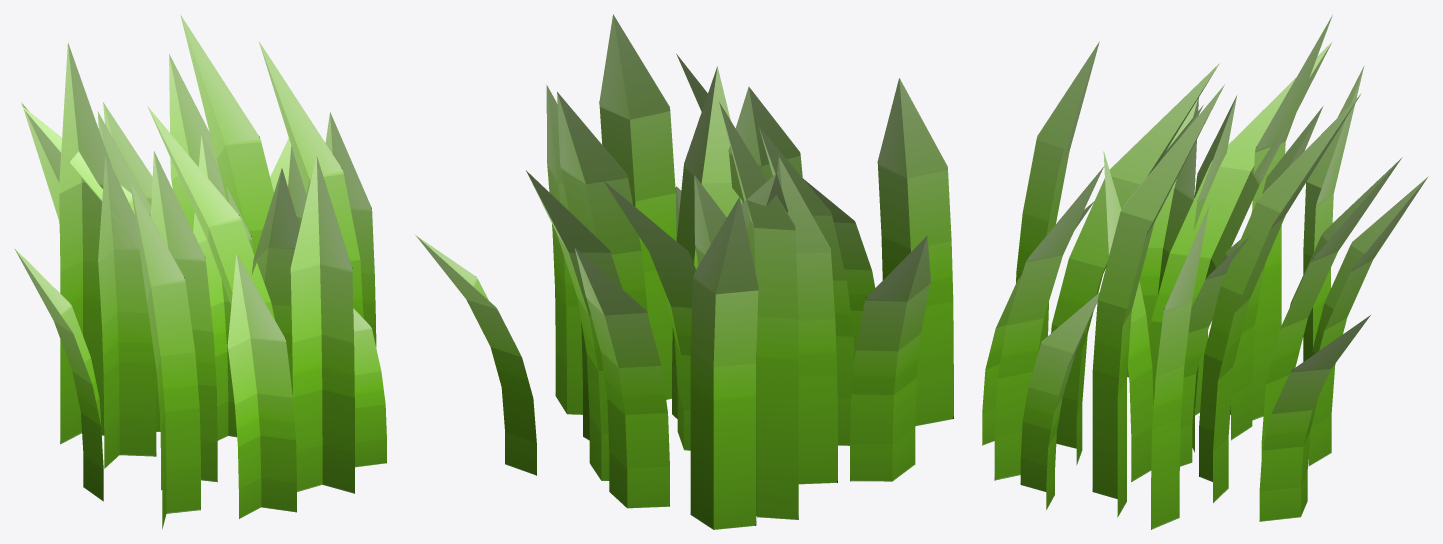
The model's file is Tall Grass.fbx.
3 views of the same model, side by side, from view 1: azimuth 30°, elevation 25°; view 2: azimuth 150°, elevation 25°; view 3: azimuth 270°, elevation 25° (orthographic). The views are drawn at different scales.
Parts seen in each view (by area): view 1: Plane_20; view 2: Plane_20; view 3: Plane_20.
Part boxes in pixels (x1,y1,x2,y2): Plane_20: (14, 15, 386, 529); Plane_20: (415, 14, 953, 529); Plane_20: (982, 15, 1428, 529).
Bounding box in the file's own units: 90 × 90 × 90.
Materials: 1 (1 with a texture image).
